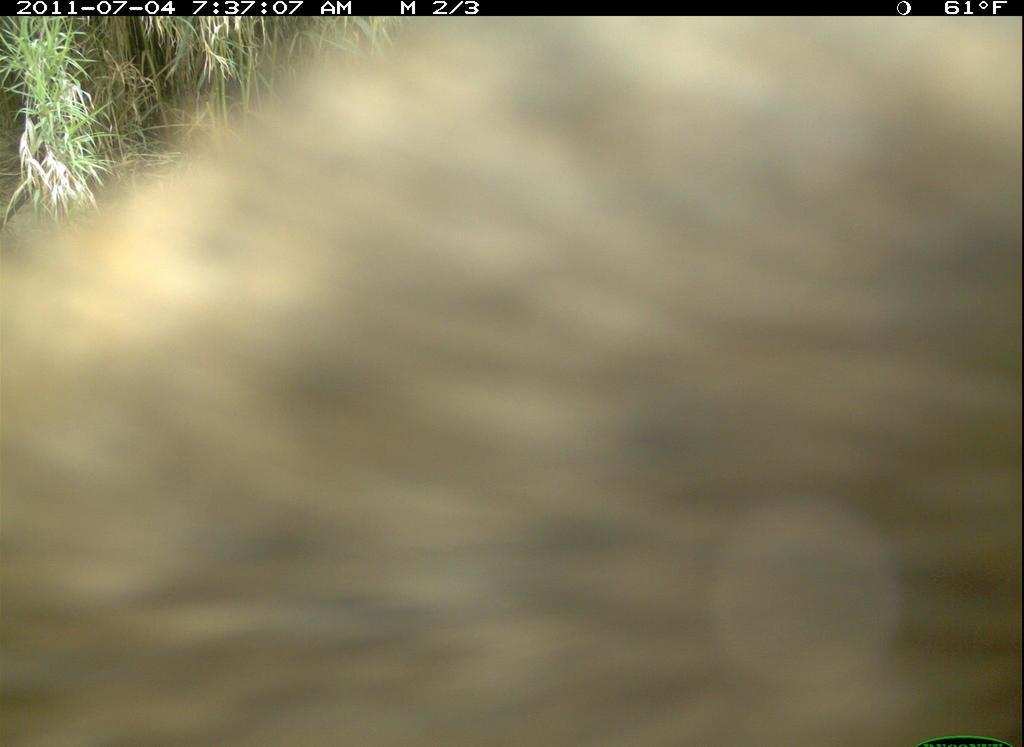coyote: (68, 26, 996, 737)
